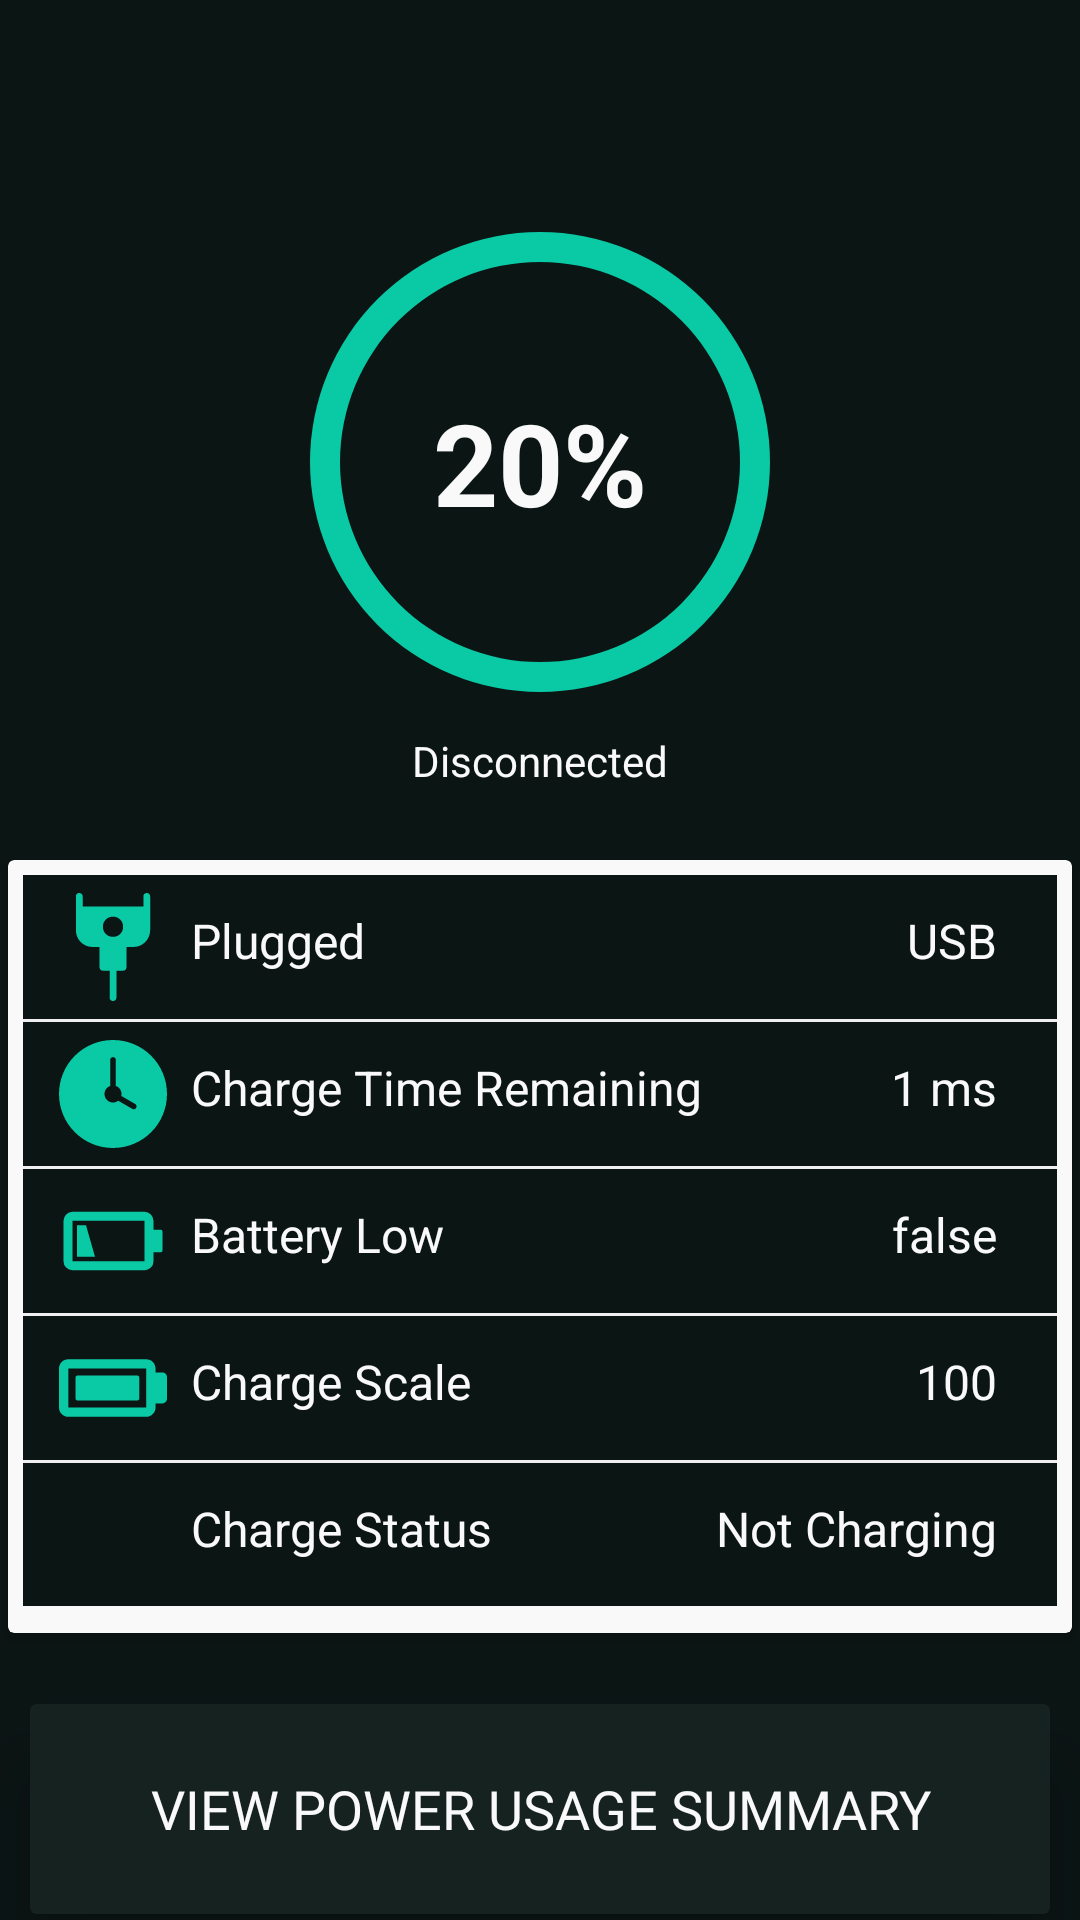

Locate icon controls on the screen. Image size 1080 x 1920, boxes as (x1, y1, x2, y2).
battery with full charge: (59, 1359, 167, 1417)
